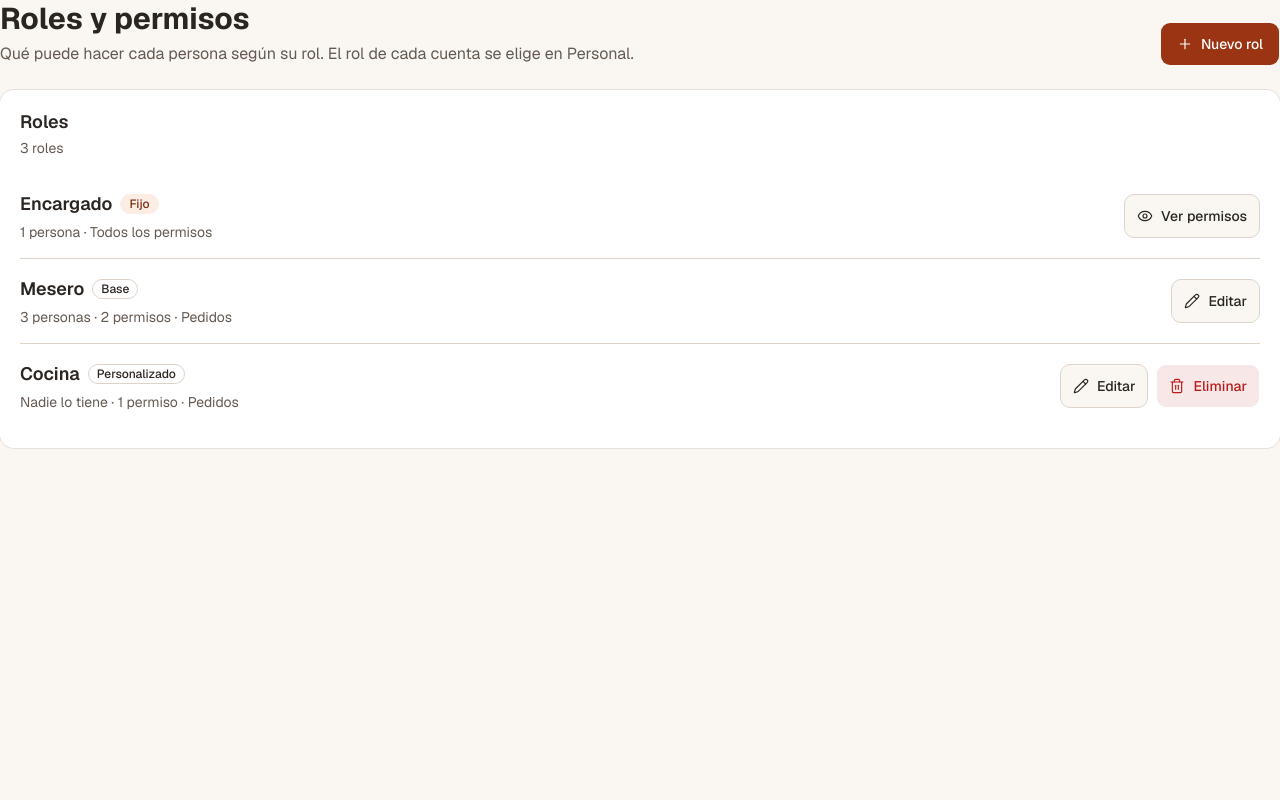
Test: RolesView: edición y borrado › borra un rol vacío después de confirmar
expect the text "3 roles" is shown: met, box top-left (20, 138), bottom-right (68, 158)
Click the button "Eliminar".
click(1208, 386)  # box top-left (1156, 364), bottom-right (1260, 408)
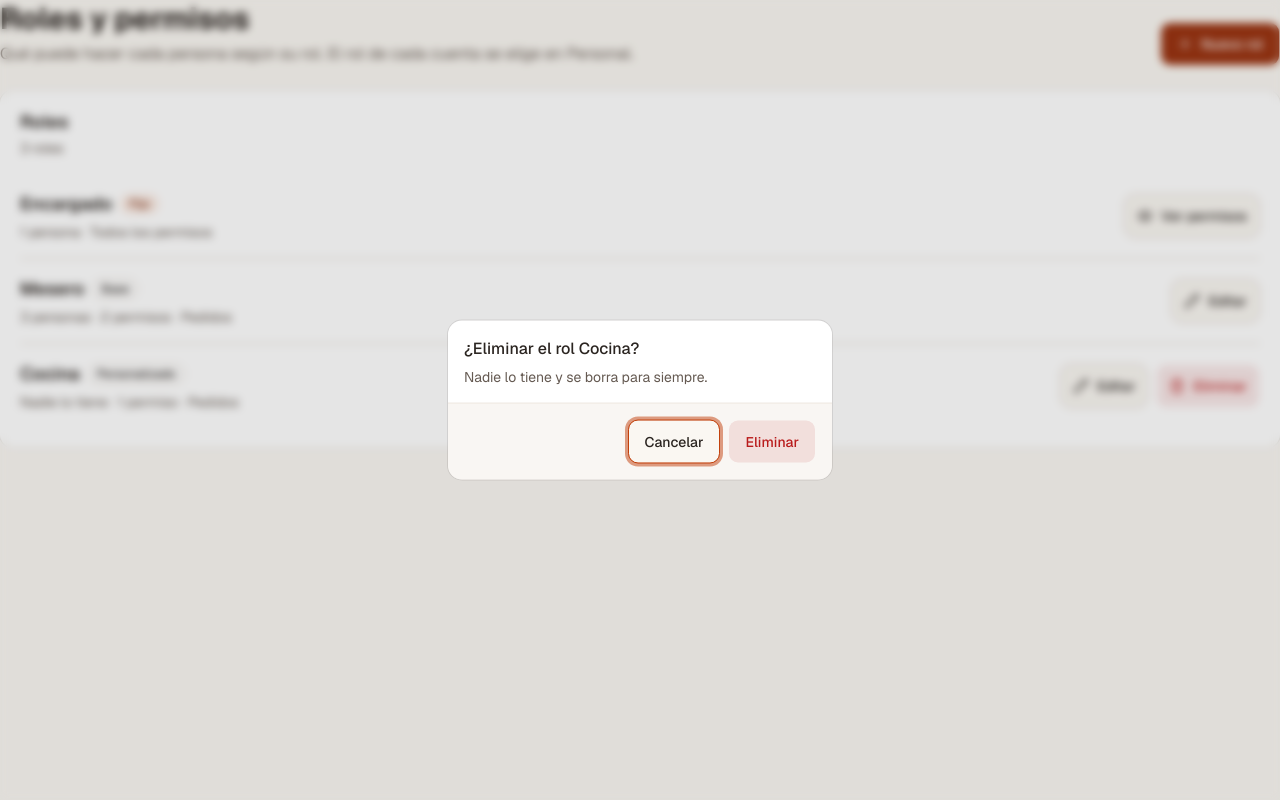
Click the button "Eliminar".
click(772, 442)  # box top-left (728, 420), bottom-right (816, 464)
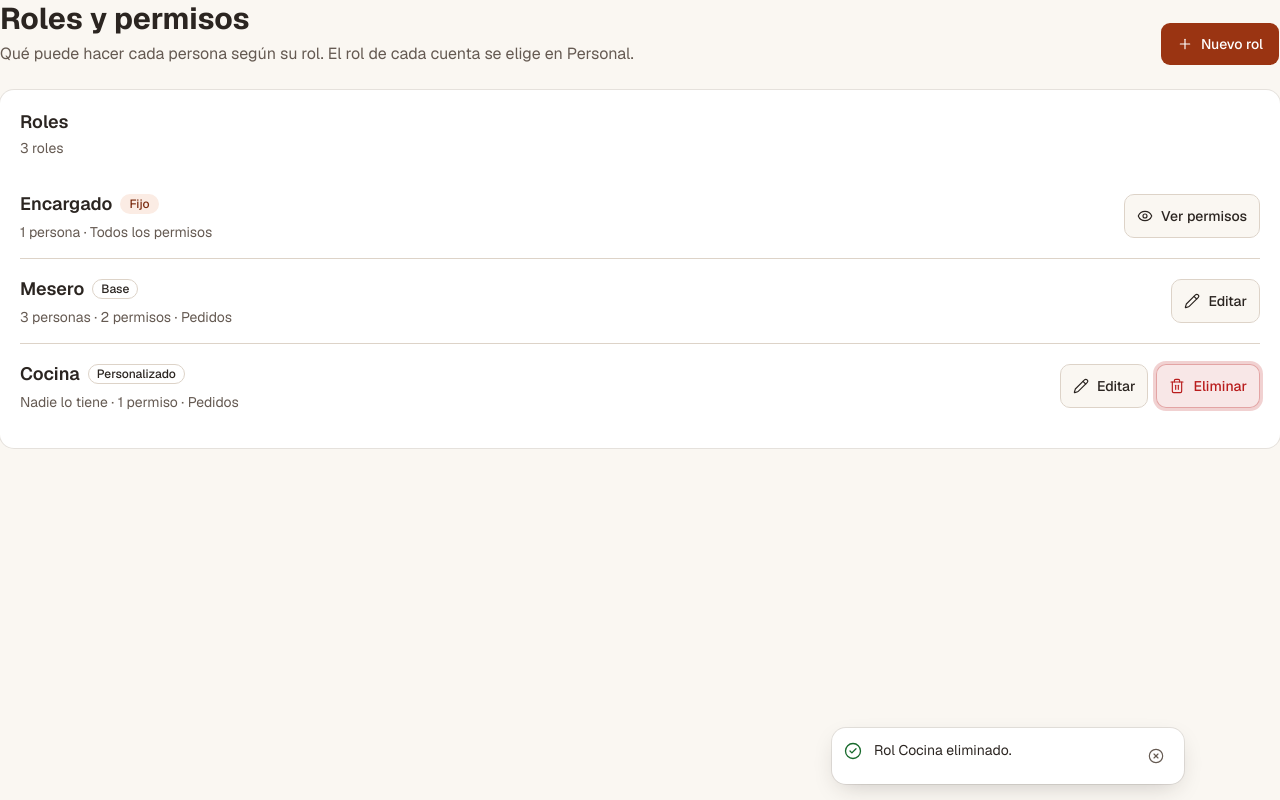
expect the text "Rol Cocina eliminado." is shown: met, box top-left (874, 741), bottom-right (1012, 759)
